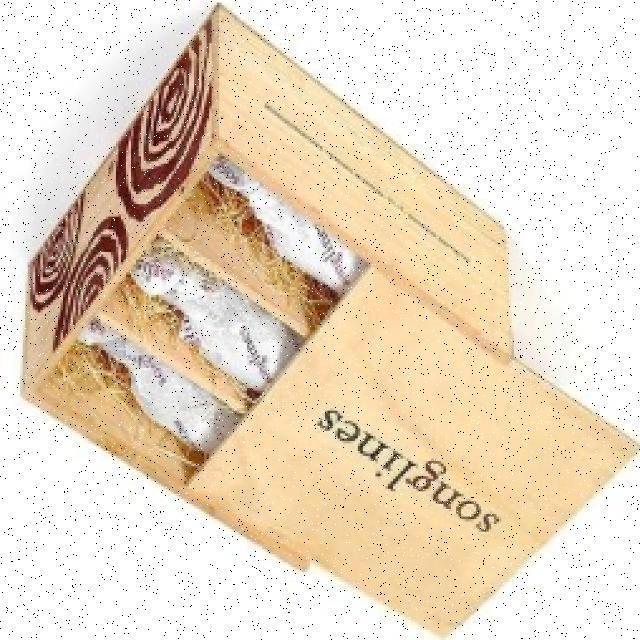box: (20, 41, 585, 584)
